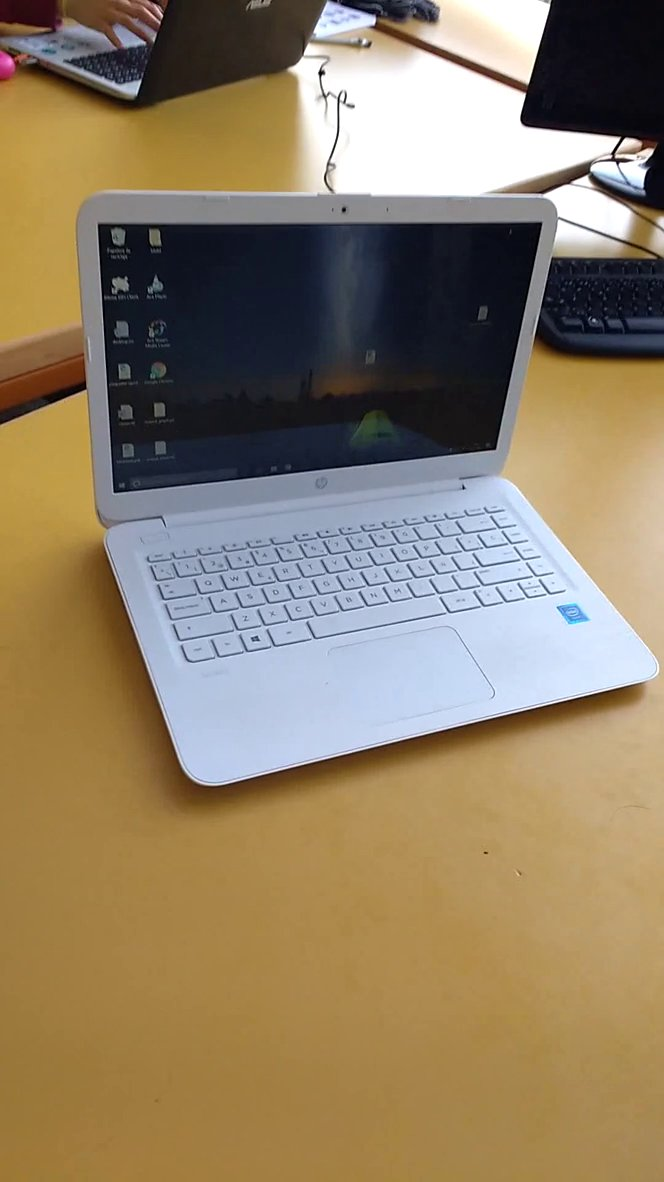laptop: (68, 175, 664, 800), (2, 1, 332, 123)
